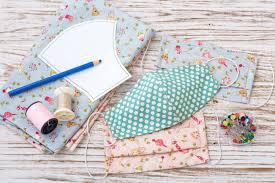mask: (88, 54, 232, 151)
